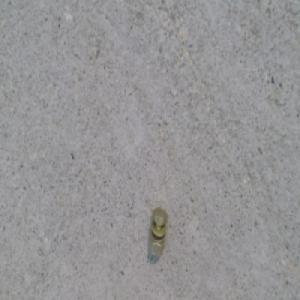BoltNutSet: (149, 207, 167, 254)
